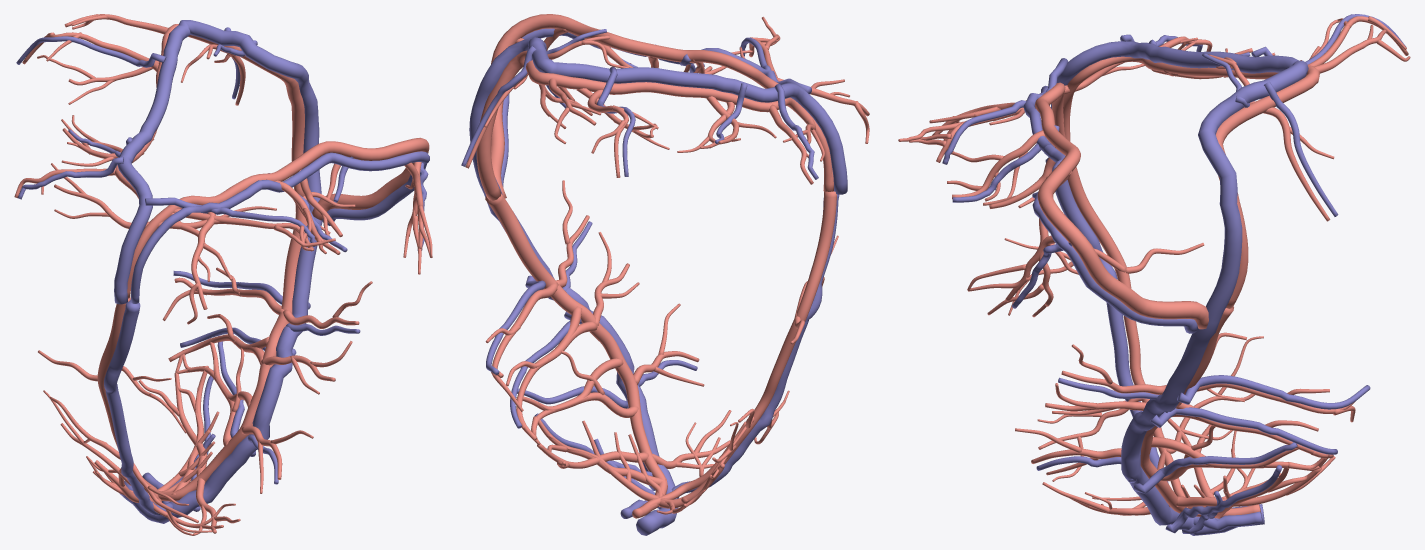
Rendered from vessels_53.glb.
The picture shows the model from 3 angles, left to right: view 1: azimuth 30°, elevation 25°; view 2: azimuth 150°, elevation 25°; view 3: azimuth 270°, elevation 25°; orthographic projection. The views are drawn at different scales.
Parts seen in each view (by area): view 1: Renderer Node; view 2: Renderer Node; view 3: Renderer Node.
Part boxes in pixels (x1=…): Renderer Node: x1=14, y1=14, x2=432, y2=535; Renderer Node: x1=461, y1=14, x2=869, y2=535; Renderer Node: x1=898, y1=14, x2=1410, y2=535.
Bounding box in the file's own units: 95.47 × 116 × 105.
